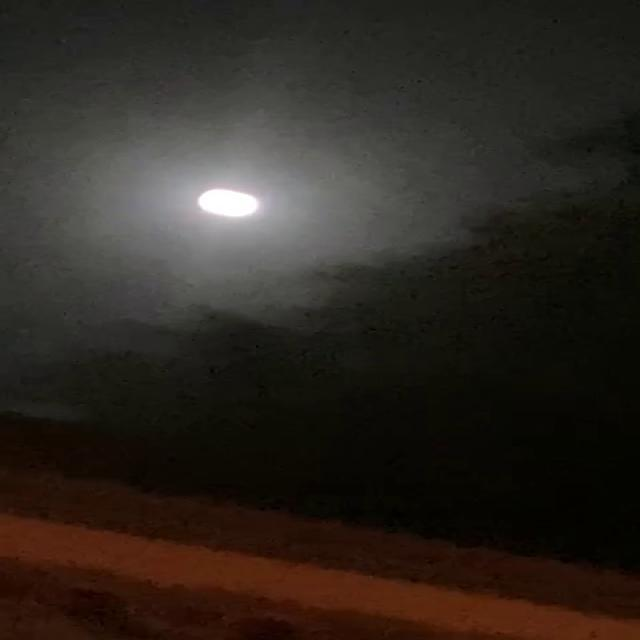moon: (203, 196, 286, 234)
